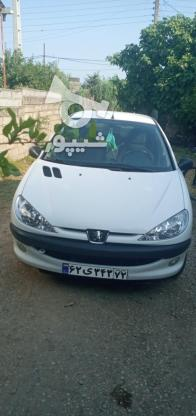car: (61, 261, 130, 279)
